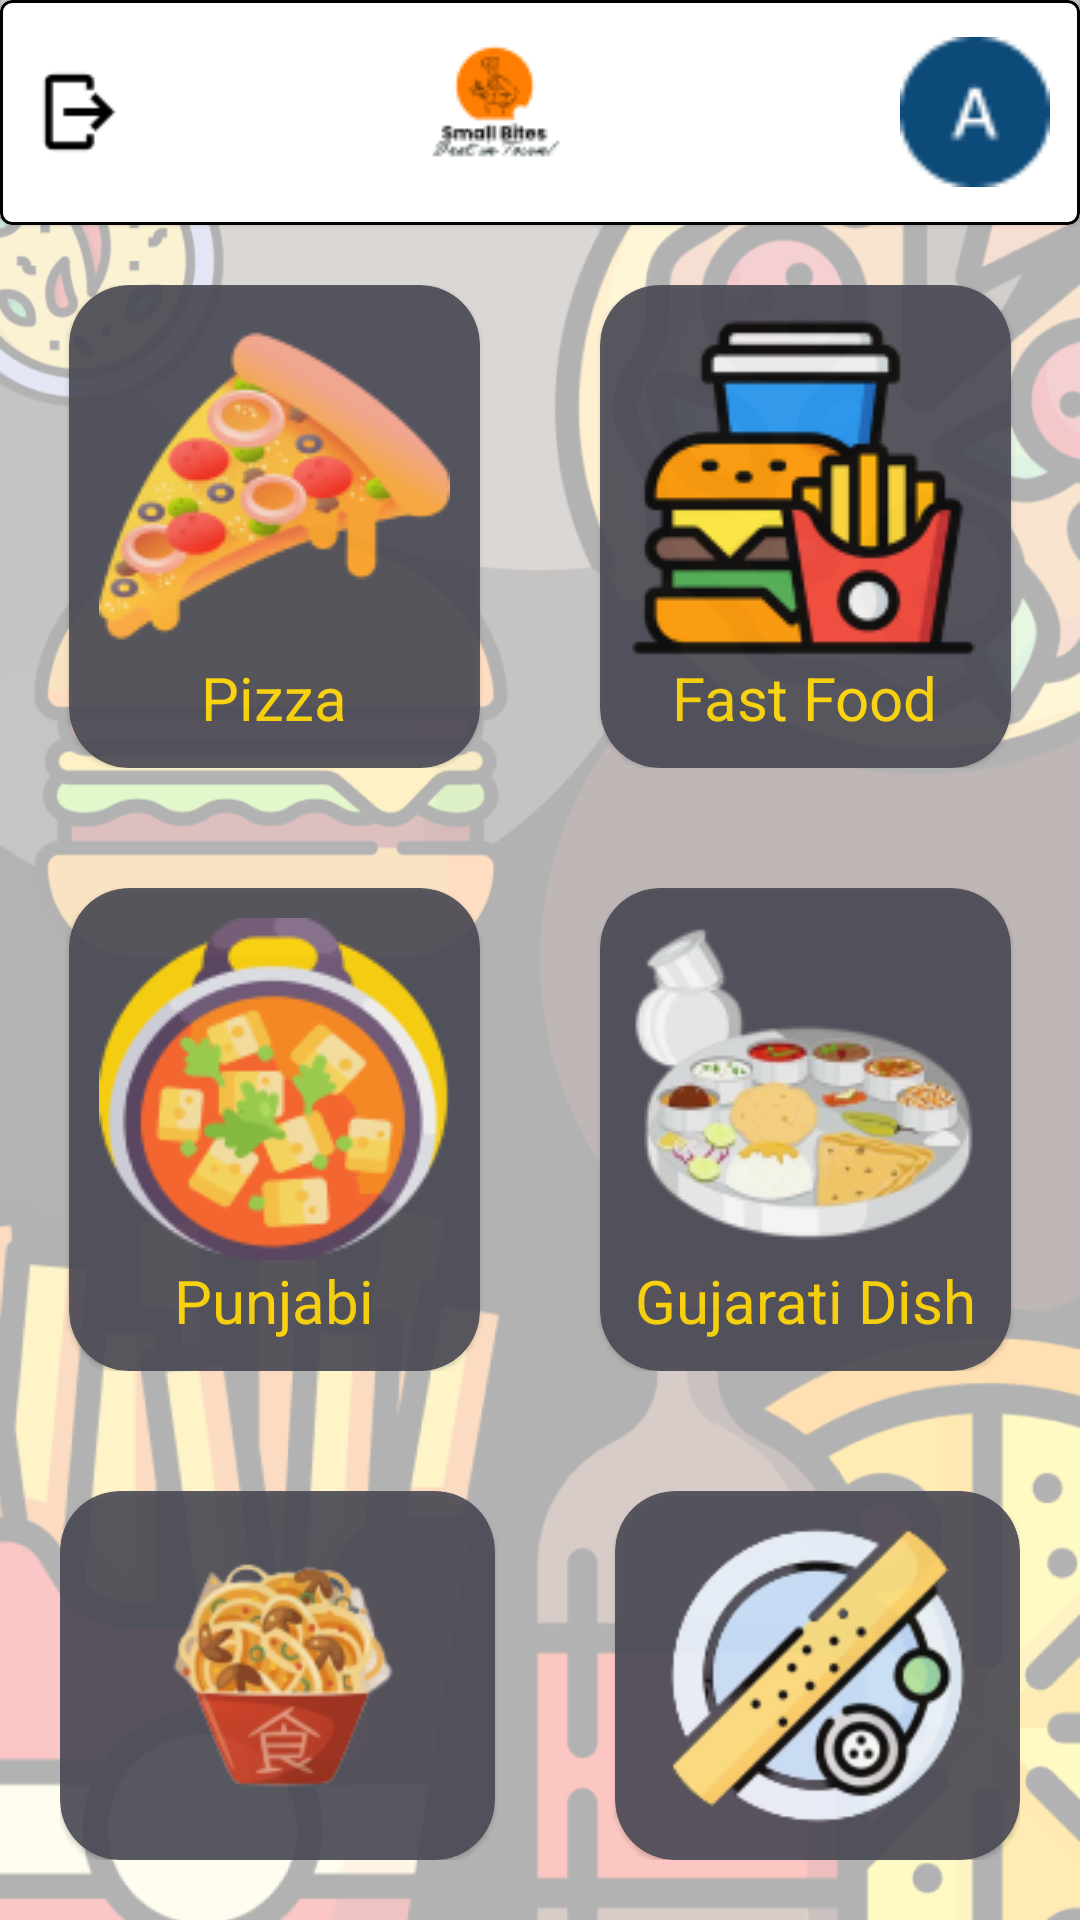

Icons on this 1080px×1920px Android screen, each with the point to tap as (x=x, y=y):
chinese: (x=283, y=1675)
south: (x=817, y=1675)
user: (x=975, y=112)
